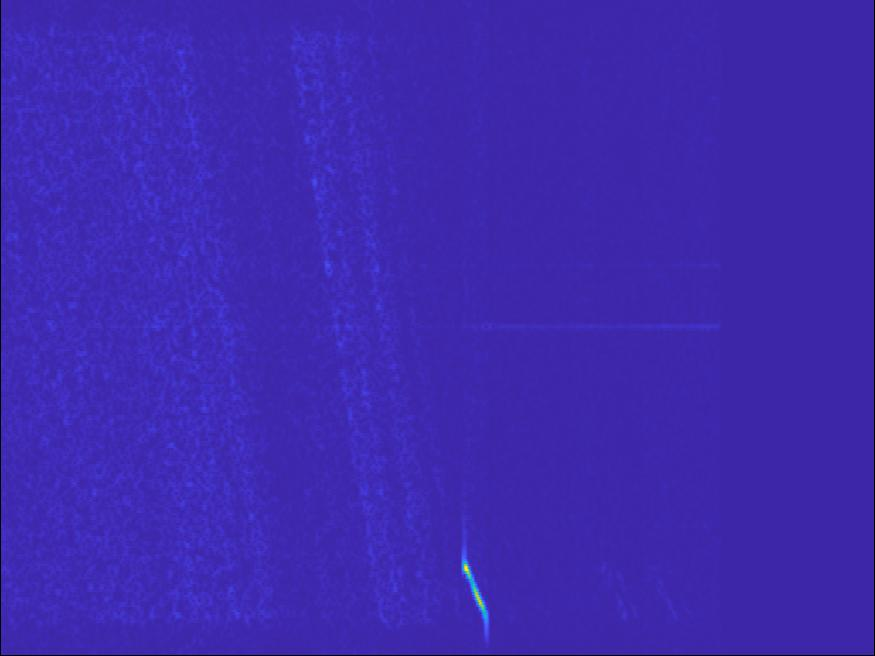Interference: (139, 1, 358, 217), (759, 305, 853, 356)
